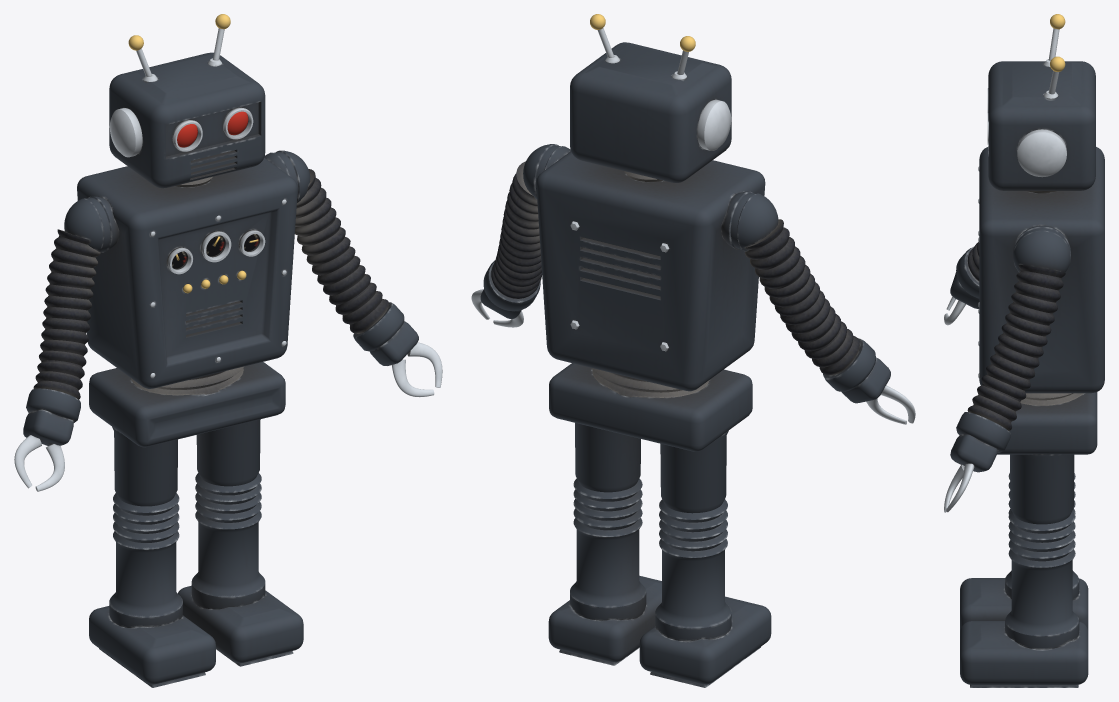
The model's file is robot.glb.
3 renders of one model, left to right at view 1: azimuth 30°, elevation 25°; view 2: azimuth 150°, elevation 25°; view 3: azimuth 270°, elevation 25°, orthographic. The views are drawn at different scales.
Parts seen in each view (by area): view 1: robot_body, robot_lamps; view 2: robot_body; view 3: robot_body, robot_lamps.
Part boxes in pixels (left/top/right/bottom): robot_body: left=14, top=28, right=442, bottom=687; robot_lamps: left=128, top=14, right=258, bottom=293; robot_body: left=471, top=28, right=915, bottom=687; robot_body: left=944, top=28, right=1104, bottom=687; robot_lamps: left=1050, top=14, right=1065, bottom=71.
Bounding box in the file's own units: 1.65 × 2.28 × 0.5379.
3 materials, 1 textured.
